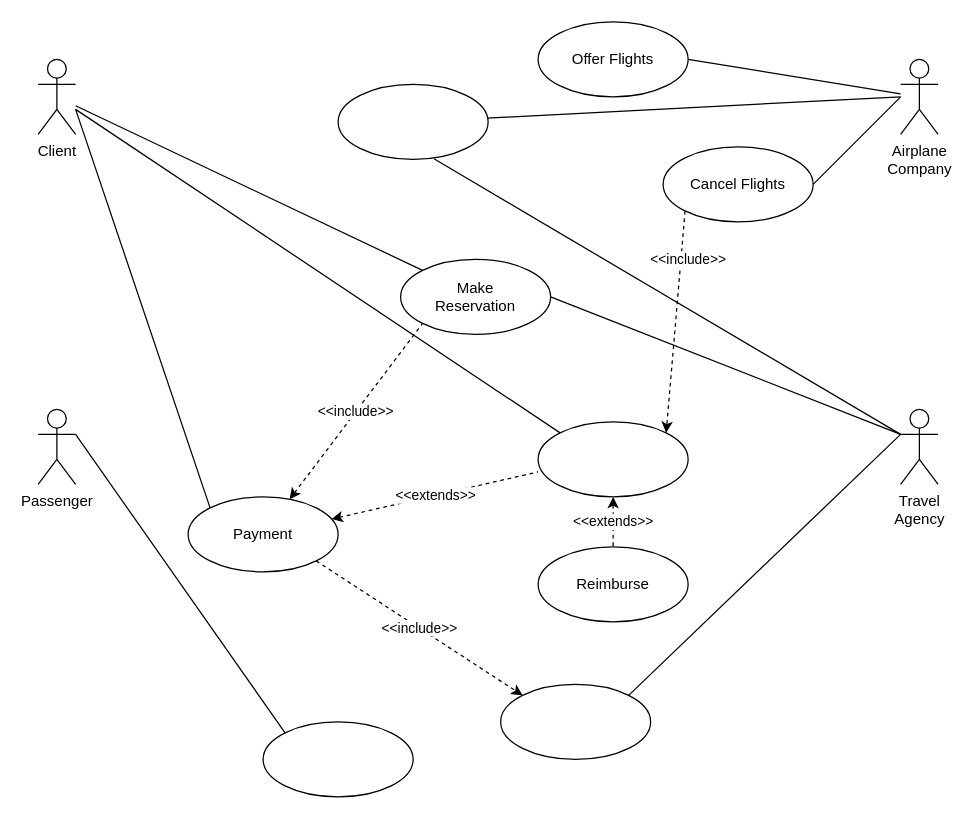
The diagram is 973 pixels wide and 819 high, and some of its shapes have lost their labels. The shapes that lost their labels are listed below. From the top down, each one's centre as x and y in pixels, then its label:
At pixel 412 121: "Check Flights".
At pixel 612 459: "Cancel Reservation".
At pixel 575 721: "Confirm Reservation".
At pixel 337 759: "Check In".
